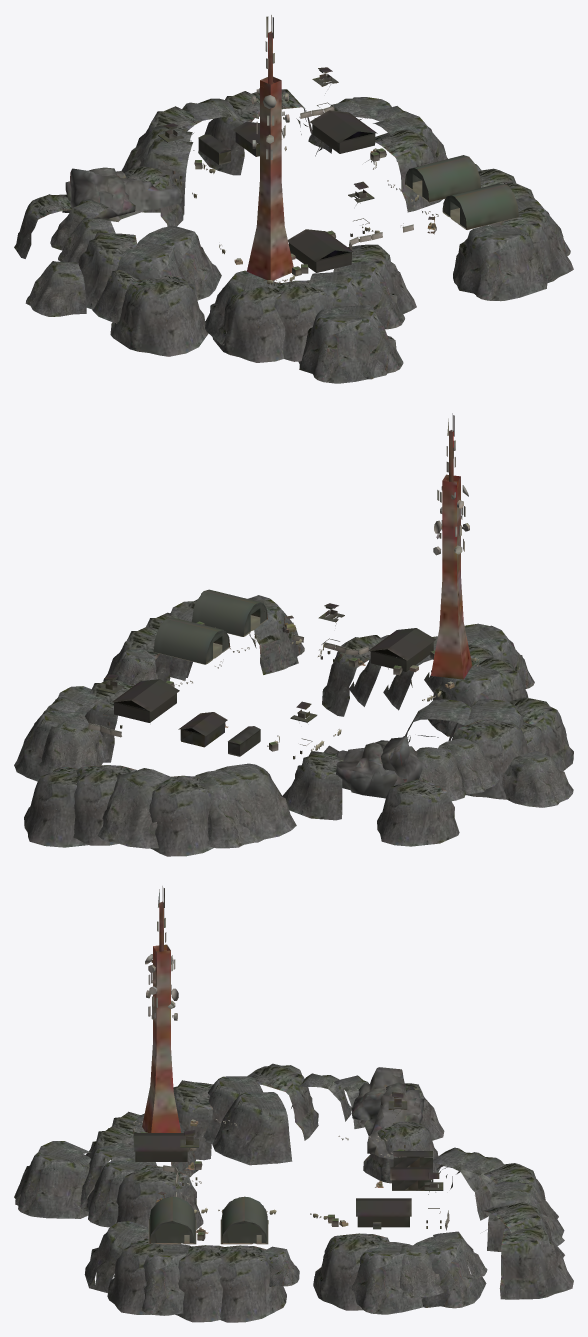
File: nuclear_missile_silo.glb
3 views of the same model, one above another, from view 1: azimuth 30°, elevation 25°; view 2: azimuth 150°, elevation 25°; view 3: azimuth 270°, elevation 25° (orthographic). The views are drawn at different scales.
Visible parts, largest first — view 1: NMS_hlod; view 2: NMS_hlod; view 3: NMS_hlod.
Boxes of the visible parts, x1=… form: NMS_hlod: x1=14, y1=15, x2=573, y2=383; NMS_hlod: x1=14, y1=413, x2=573, y2=856; NMS_hlod: x1=14, y1=886, x2=573, y2=1322.
Size of the model in its own units: 122 by 77.25 by 128.
Materials: 1 (1 with a texture image).
